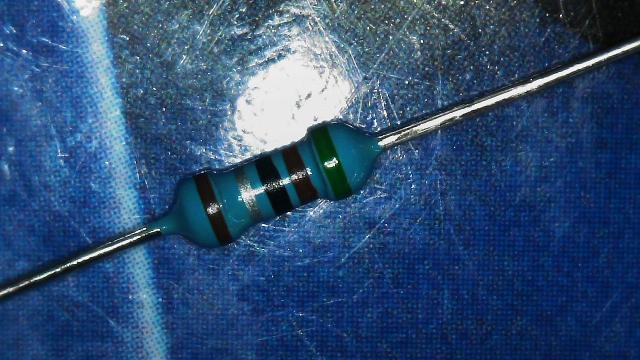black: (254, 154, 292, 216)
brown: (194, 174, 232, 244), (282, 144, 318, 204)
green: (310, 125, 352, 200)
resistor: (157, 108, 398, 255)
silver: (233, 166, 262, 223)
